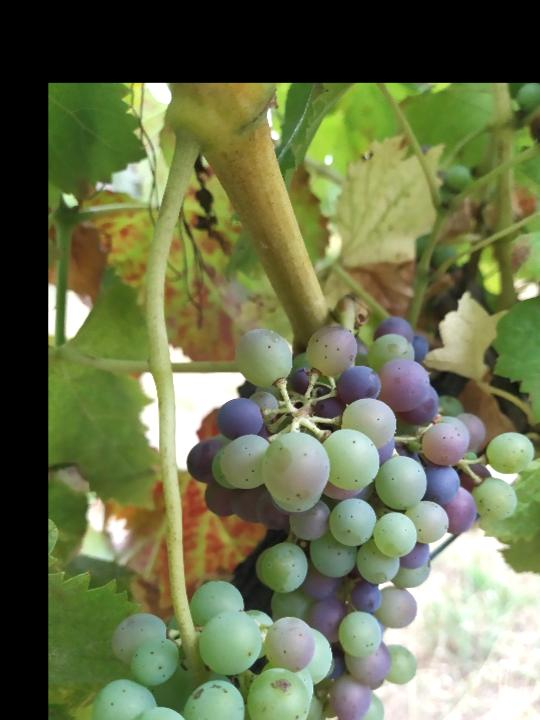grape: (183, 313, 536, 720)
